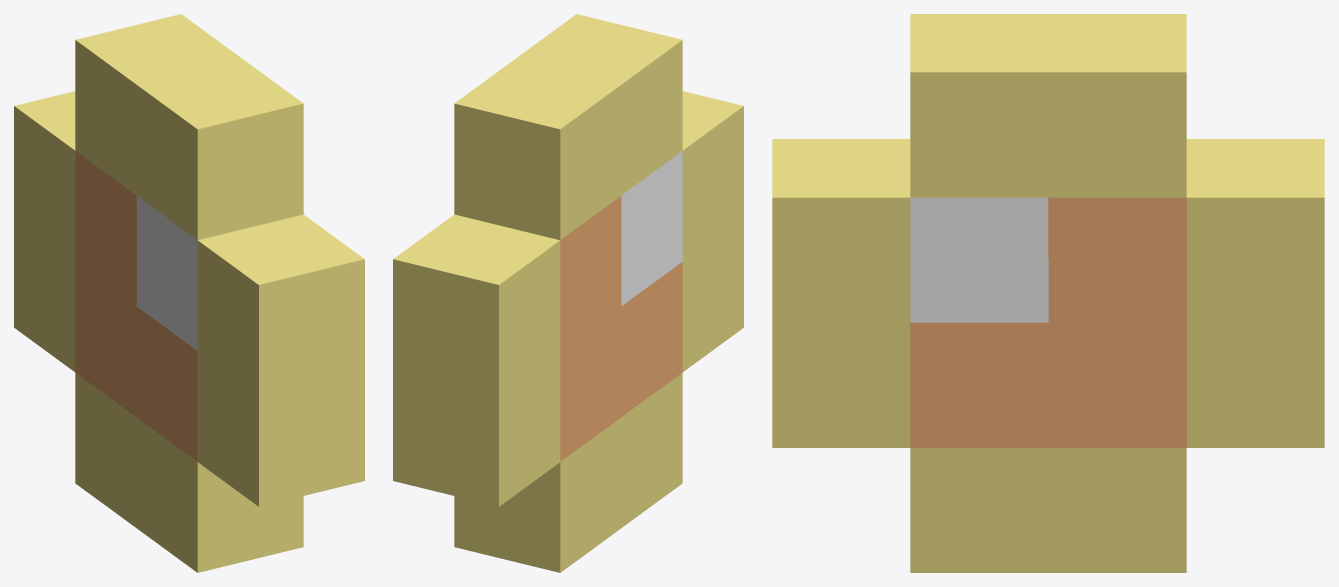
The model's file is coin.obj.
3 renders of one model, left to right at view 1: azimuth 30°, elevation 25°; view 2: azimuth 150°, elevation 25°; view 3: azimuth 270°, elevation 25°, orthographic. The views are drawn at different scales.
Visible parts, largest first — view 1: coin; view 2: coin; view 3: coin.
Boxes of the visible parts, box(x1,y1,x2,y2) form: coin: box(14, 14, 364, 572); coin: box(393, 14, 743, 572); coin: box(772, 14, 1324, 572).
Bounding box in the file's own units: 1.17 × 4.69 × 4.69.
1 material, 1 textured.
